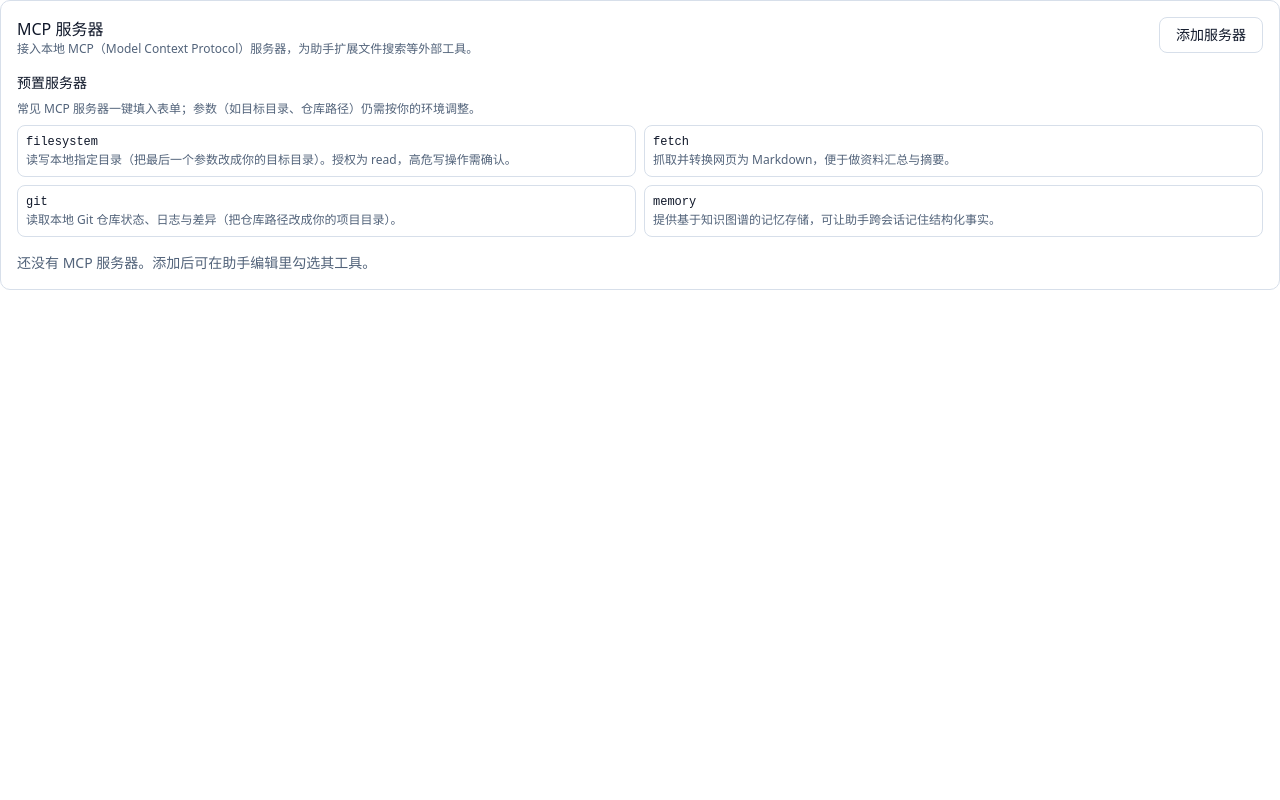
Scenario: MCP 服务器面板（v0.6 M1） › 预置目录：点 filesystem 预置后表单预填命令与参数
Click the button with test id "mcp-preset-filesystem": (326, 151) [17,125,636,177]
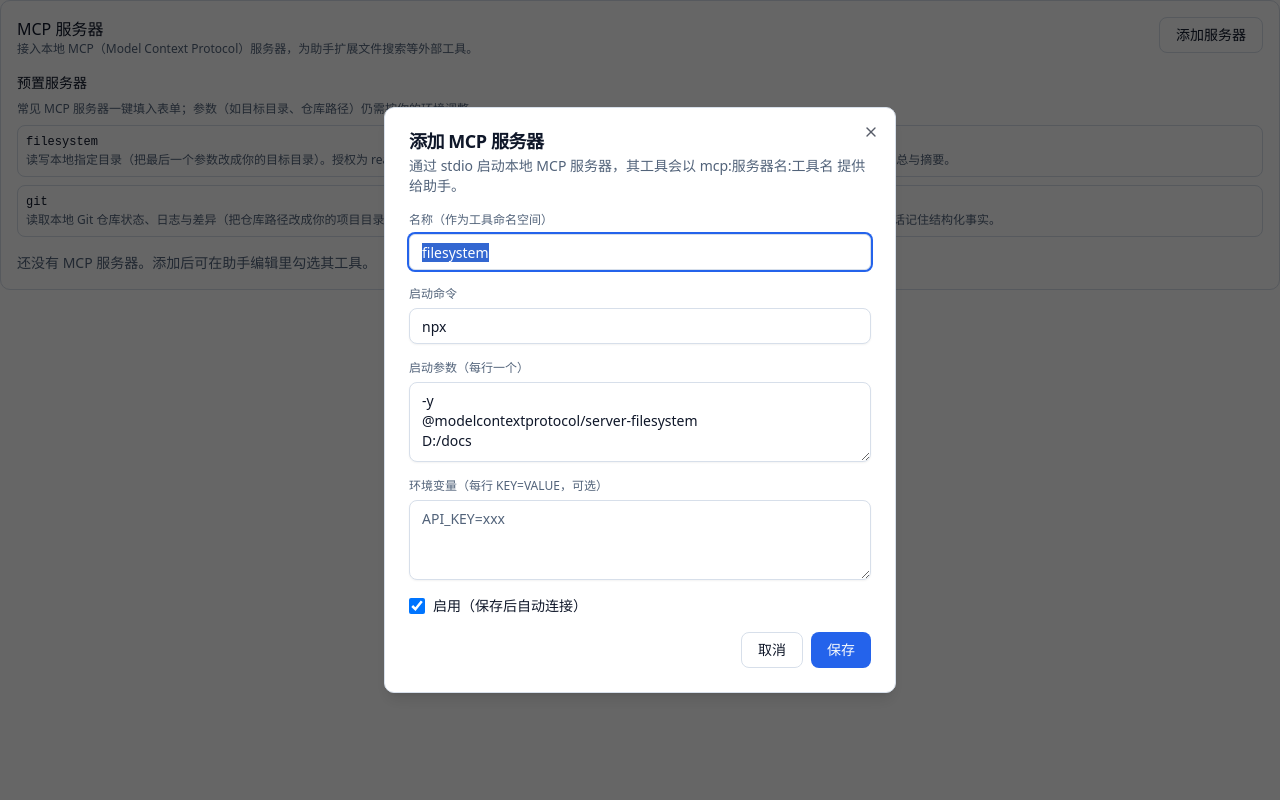
Expected: the heading "添加 MCP 服务器" is shown, [409,129,544,153]
Expected: the field labelled "名称（作为工具命名空间）" holds "filesystem", [409,234,871,270]
Expected: the field labelled "启动命令" holds "npx", [409,308,871,344]
